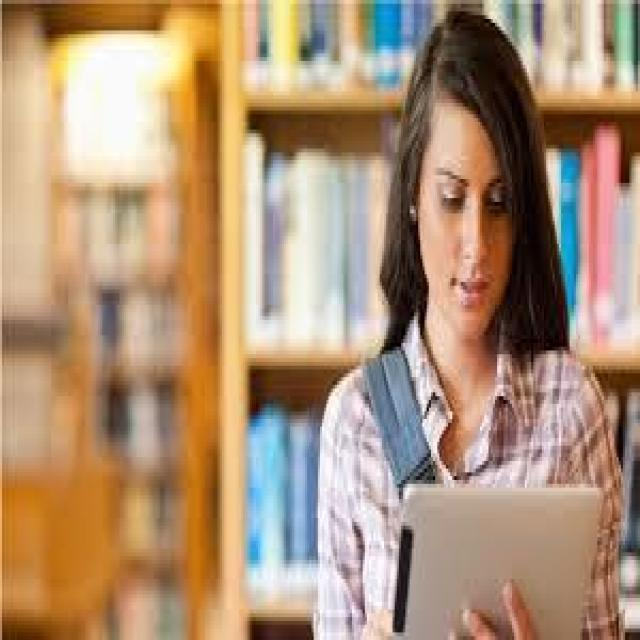person: (320, 19, 627, 617)
